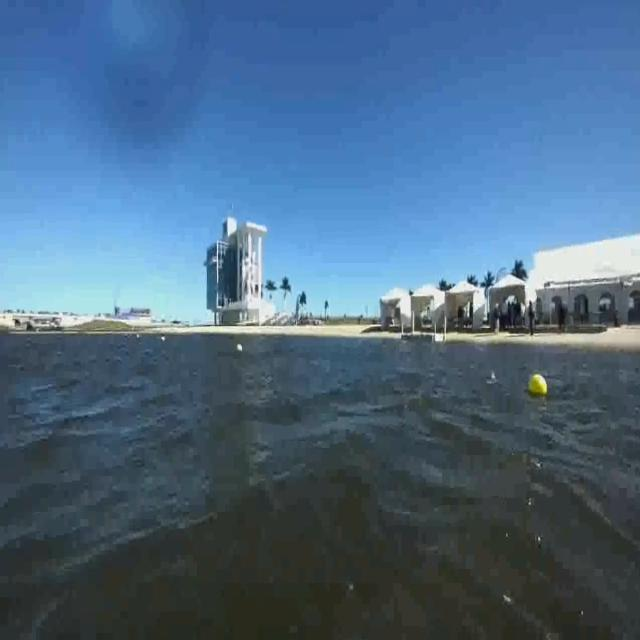yellow-buoy: (531, 372, 550, 394)
